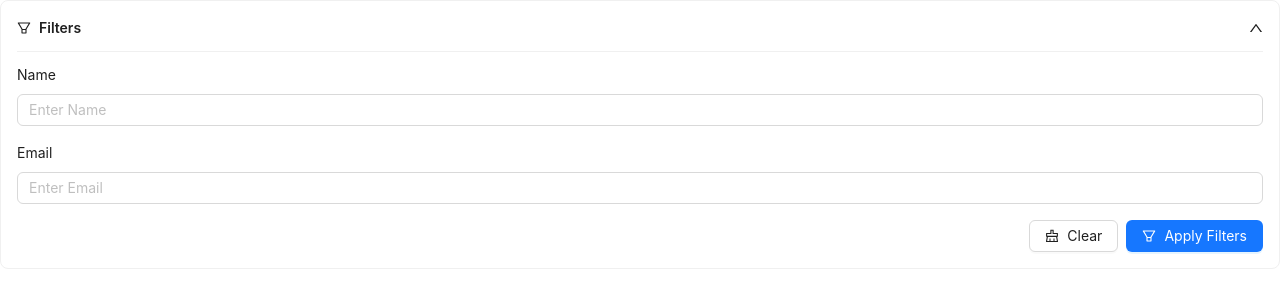
Test: FilterPanel Component › Active Filters Count › counts multiple active filters
The width and height of the screenshot is (1280, 286).
Step 1. Type "test" into the field with placeholder "Enter Name" → (640, 110), box [17,94,1263,126]
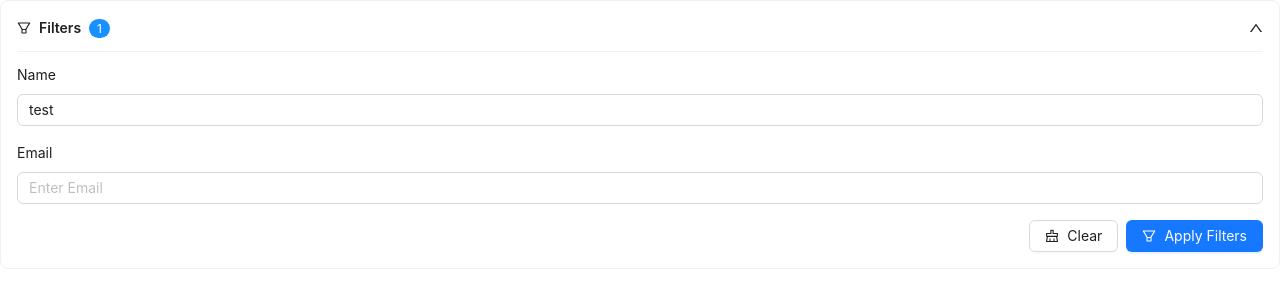
Step 2. Type "test@email.com" into the field with placeholder "Enter Email" → (640, 188), box [17,172,1263,204]
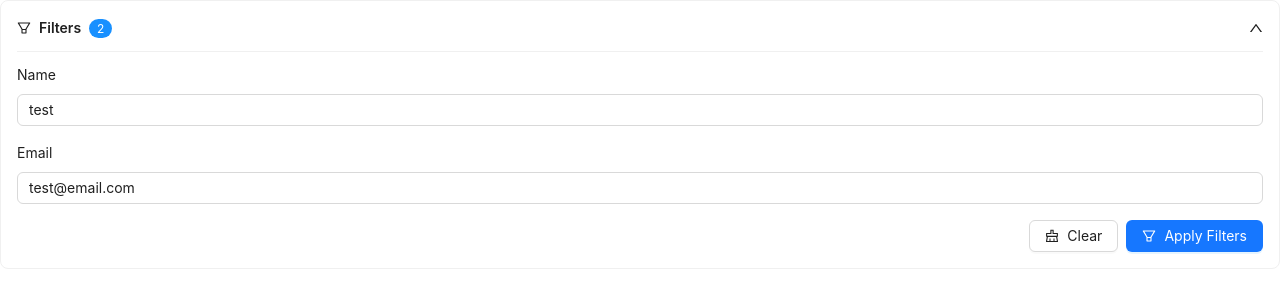
expect the text "2" is shown: met, box [89,19,112,38]
